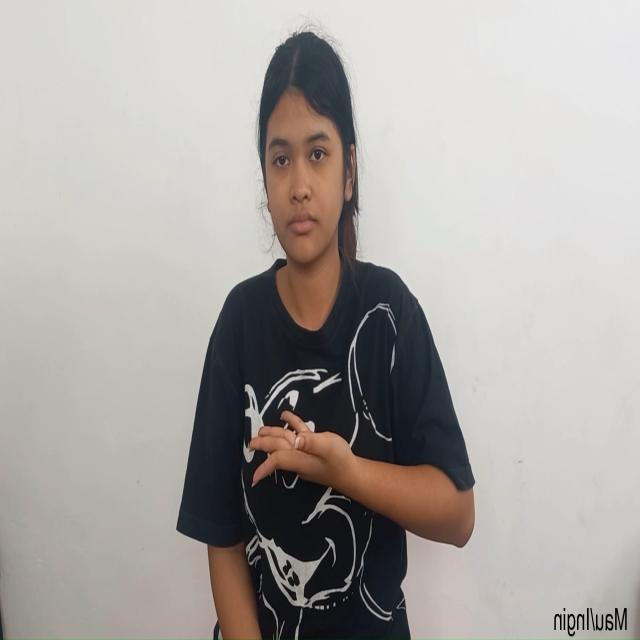Mau-Ingin -BISINDO-: (247, 409, 476, 551)
